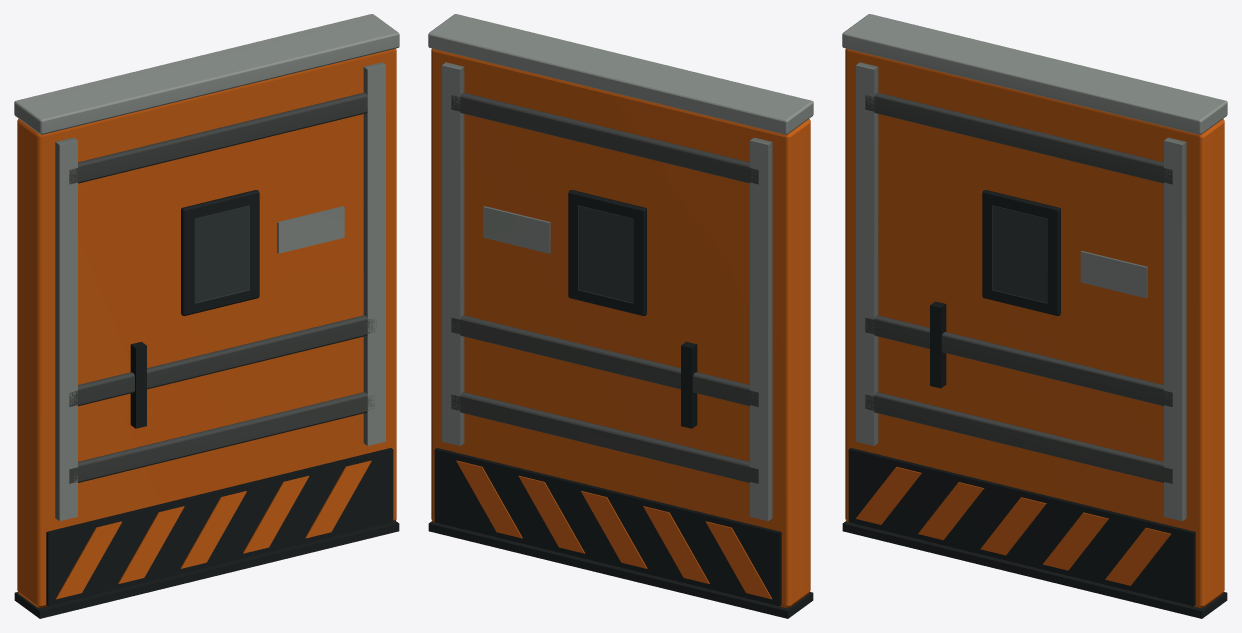
Rendered from bulkhead_door.glb.
3 renders of one model, left to right at view 1: azimuth 30°, elevation 25°; view 2: azimuth 150°, elevation 25°; view 3: azimuth 330°, elevation 25°, orthographic.
Parts seen in each view (by area): view 1: Bulkhead; view 2: Bulkhead; view 3: Bulkhead.
Part boxes in pixels (x1=…): Bulkhead: x1=14, y1=14, x2=399, y2=618; Bulkhead: x1=428, y1=14, x2=813, y2=618; Bulkhead: x1=842, y1=14, x2=1227, y2=618.
Bounding box in the file's own units: 1.96 × 2.6 × 0.32.
